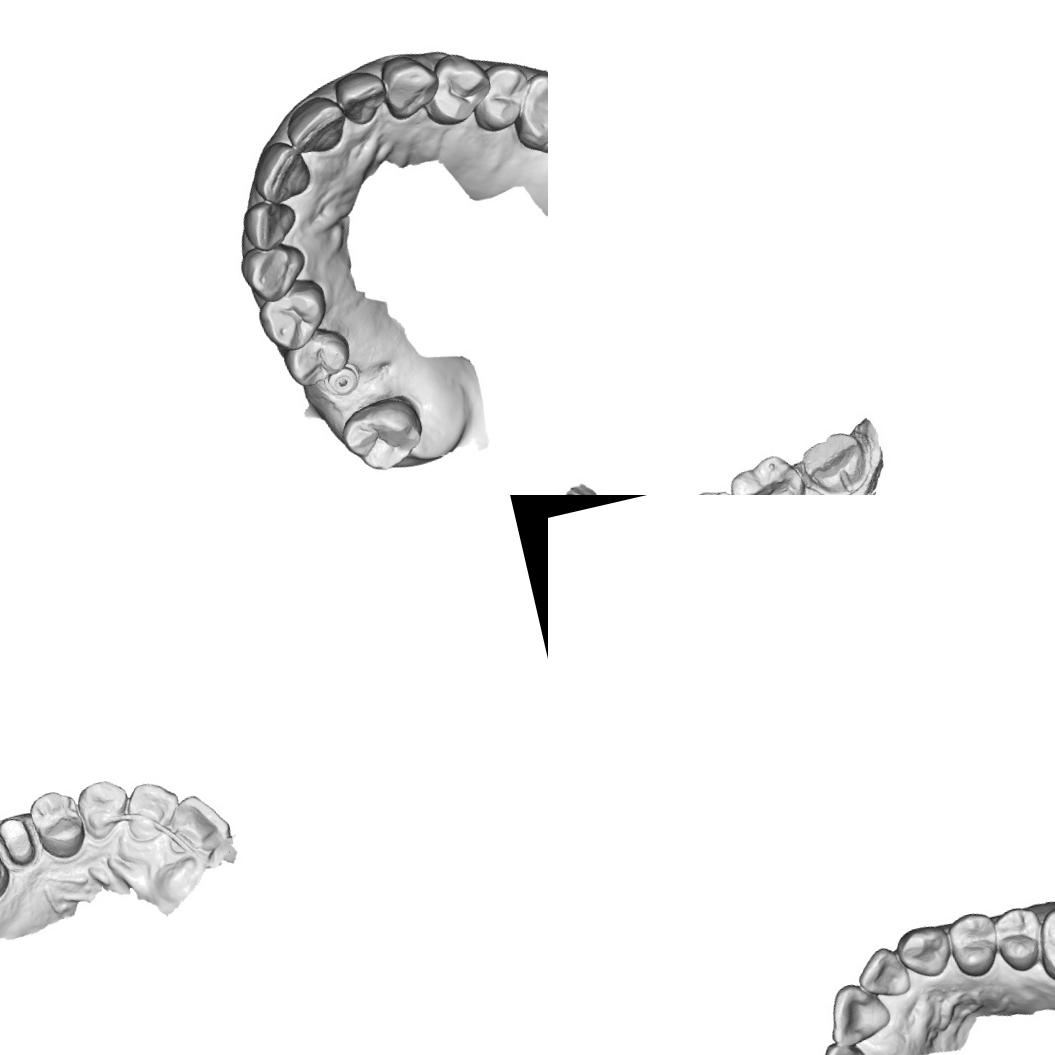canine: (234, 236, 315, 308), (890, 918, 958, 986), (72, 774, 136, 844), (378, 53, 438, 122)
crown: (795, 424, 872, 495), (0, 810, 41, 870)
implant: (322, 362, 364, 400)
incisor: (818, 974, 897, 1051), (242, 134, 315, 207), (162, 788, 235, 860), (279, 90, 352, 160), (119, 775, 187, 844), (850, 940, 915, 1006), (330, 63, 394, 130), (236, 194, 303, 256)
molar: (333, 388, 433, 480), (501, 61, 548, 166), (723, 448, 815, 495), (1027, 895, 1055, 994)
premolar: (251, 272, 338, 358), (417, 46, 499, 130), (464, 55, 540, 140), (276, 322, 358, 392), (25, 785, 91, 865), (943, 906, 1007, 984), (988, 901, 1052, 978)
